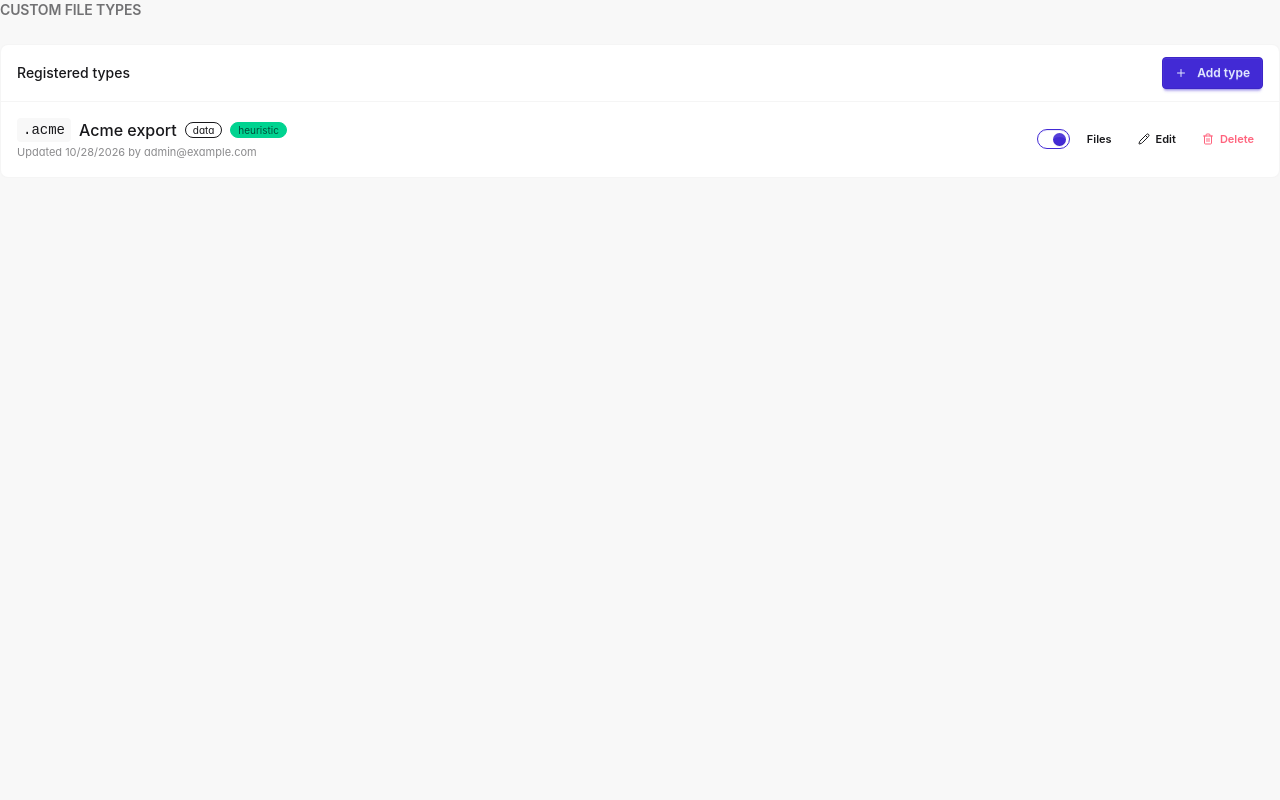
CustomFileTypes › editing › keeps a 400 from save inside the dialog, readable
Click the button with test id "cft-edit": (1157, 139) top-left (1129, 127), bottom-right (1185, 151)
(page scrolled)
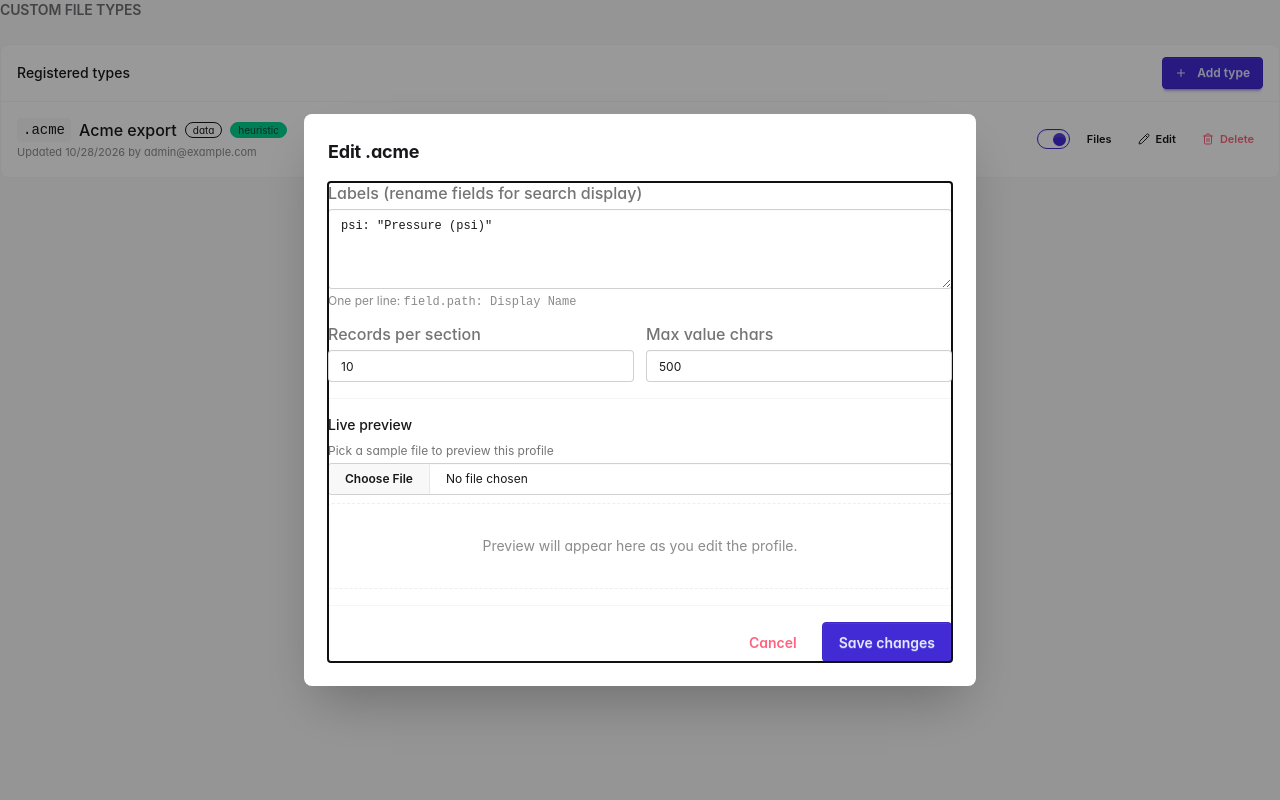
Click the button with test id "cft-save": (887, 642) top-left (822, 622), bottom-right (952, 662)
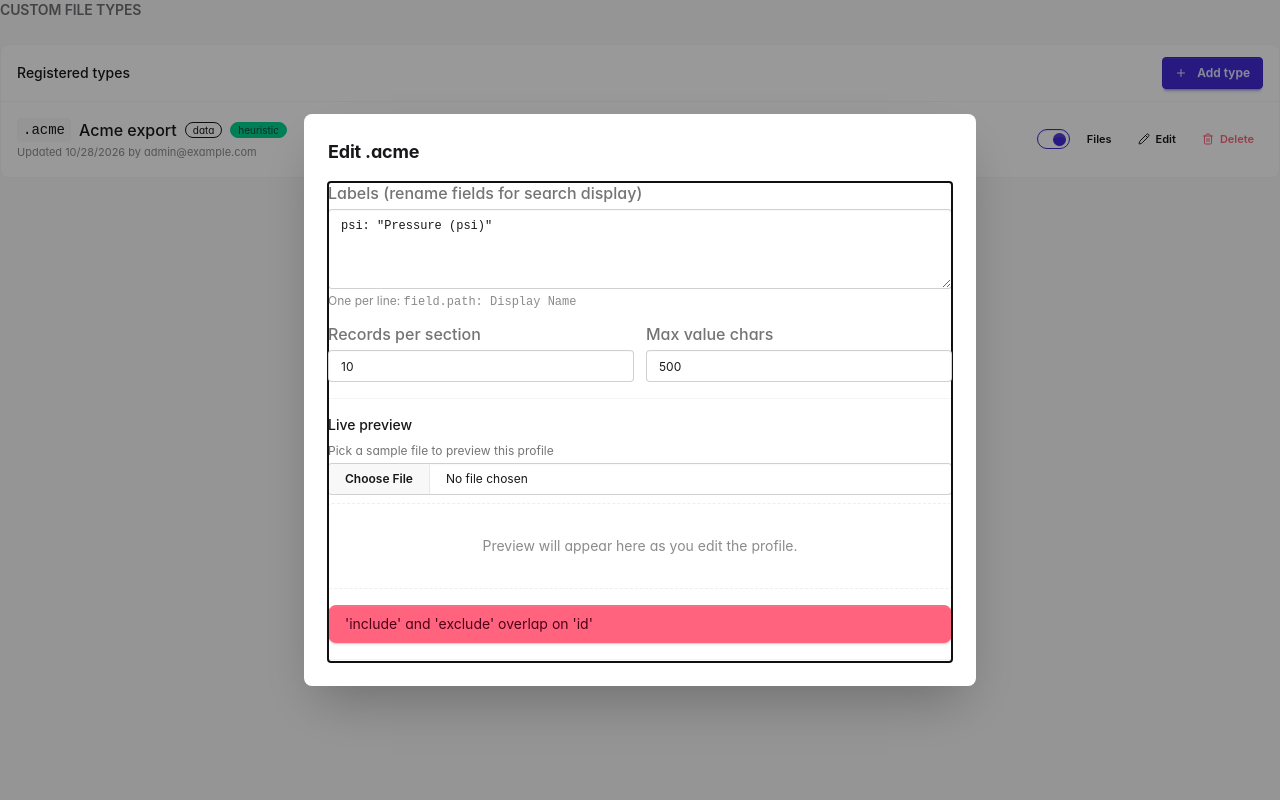
Result: the text with test id "cft-save-error" shows "overlap on 'id'" at top-left (345, 615), bottom-right (593, 632)
